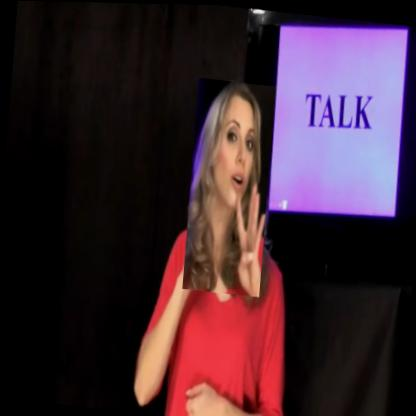Talk: (181, 77, 277, 296)
